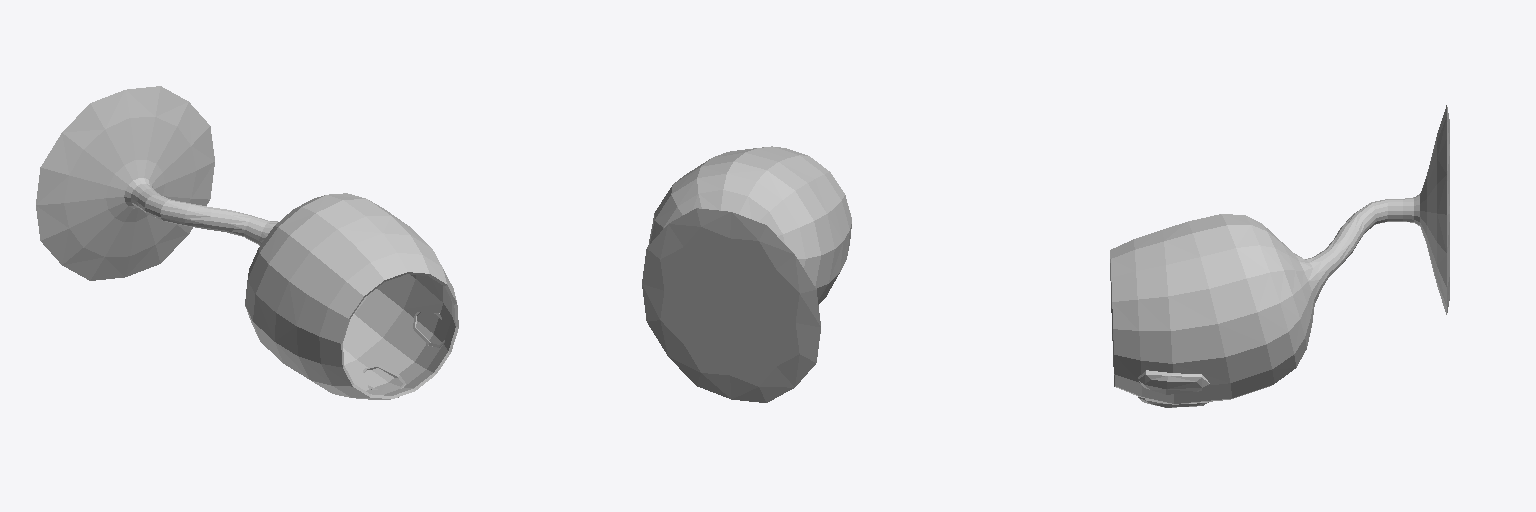
Rendered from animation_000008.obj.
3 views of the same model, side by side, from view 1: azimuth 30°, elevation 25°; view 2: azimuth 150°, elevation 25°; view 3: azimuth 270°, elevation 25° (orthographic).
Bounding box in the file's own units: 3.15 × 2.57 × 3.39.